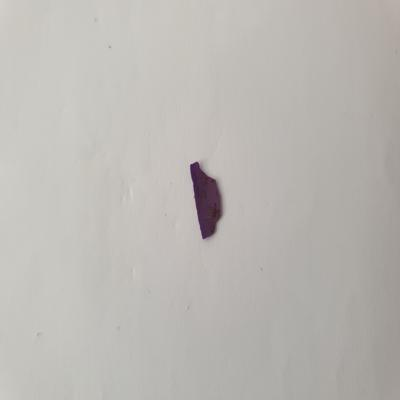plastic: (184, 155, 229, 243)
